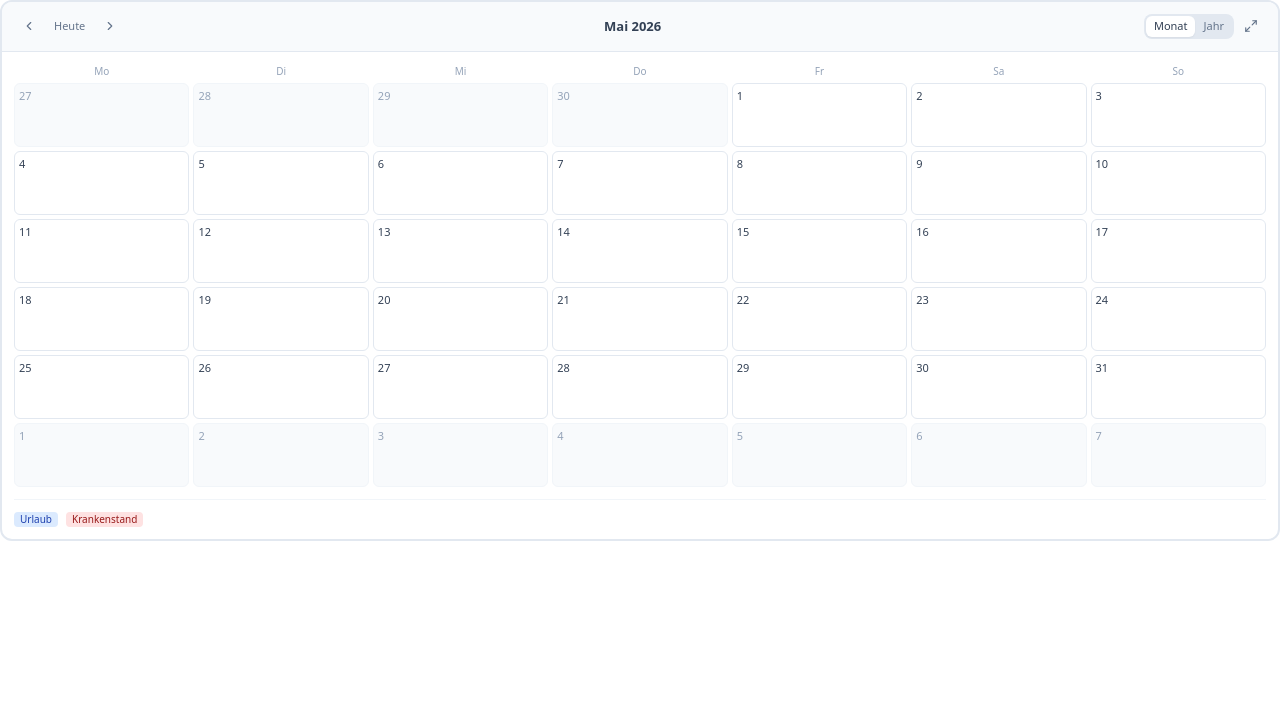
Test: LeaveCalendar › navigates to the next and previous month, refetching the range
Click the button named "Nächster Monat": point(110, 26) [99,15,121,37]
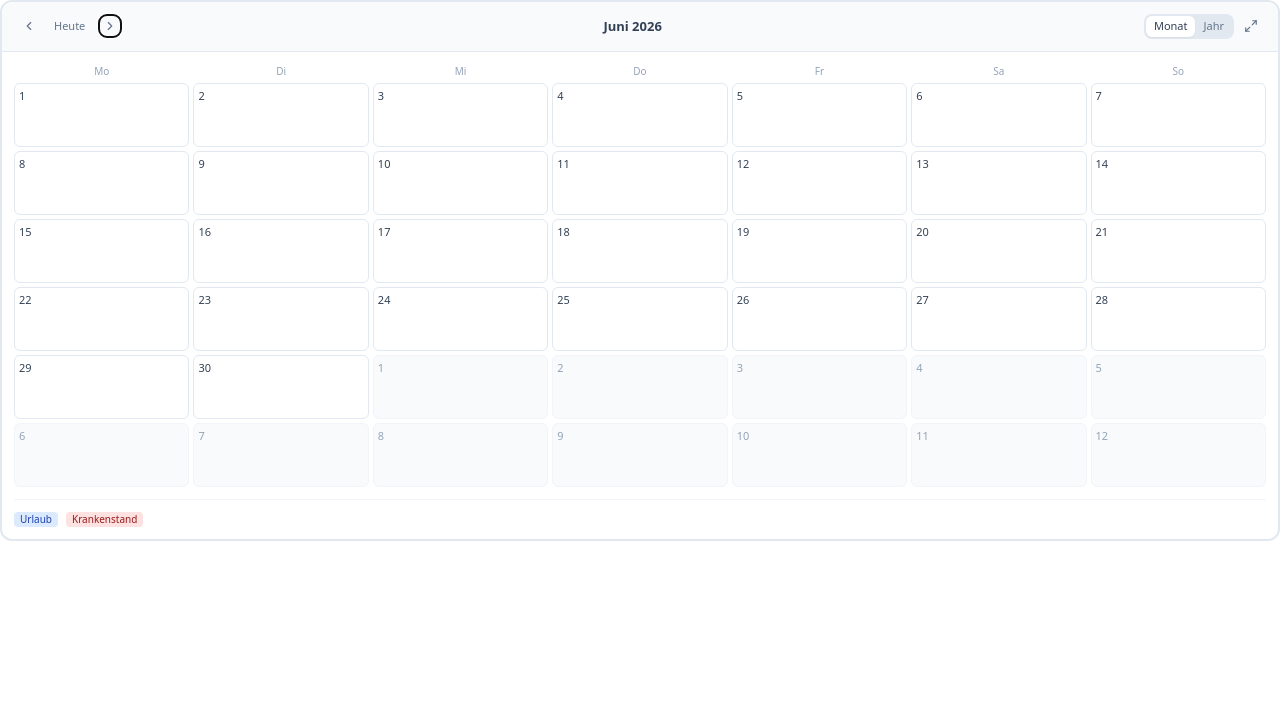
expect the text "Juni 2026" is shown: met, box [603,16,662,36]
Click the button named "Vorheriger Monat": point(29, 26) [18,15,40,37]
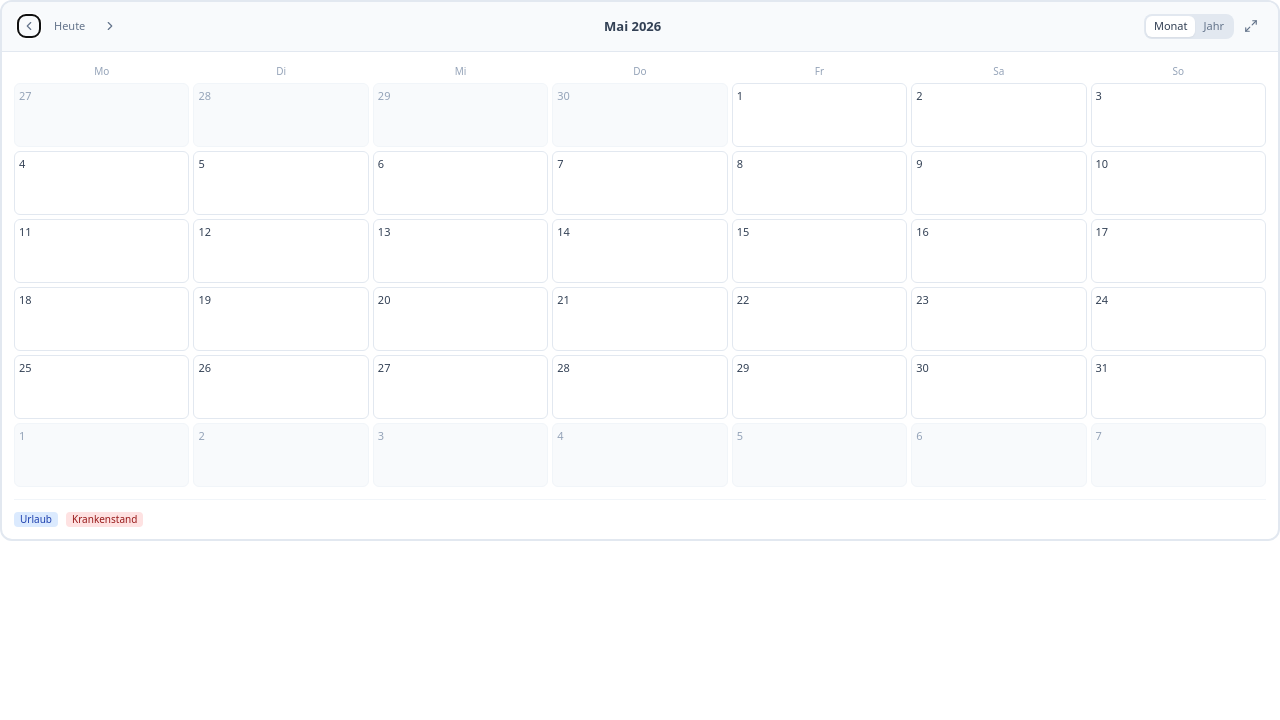
expect the text "Mai 2026" is shown: met, box [604,16,661,36]
